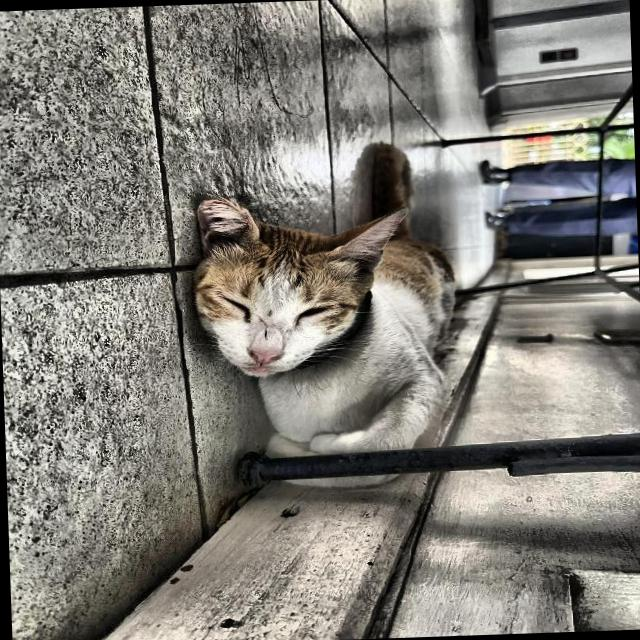Healthy skin: (212, 206, 391, 295), (351, 338, 431, 422)
